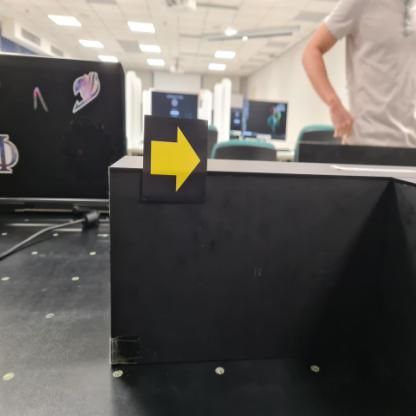right: (143, 114, 209, 205)
